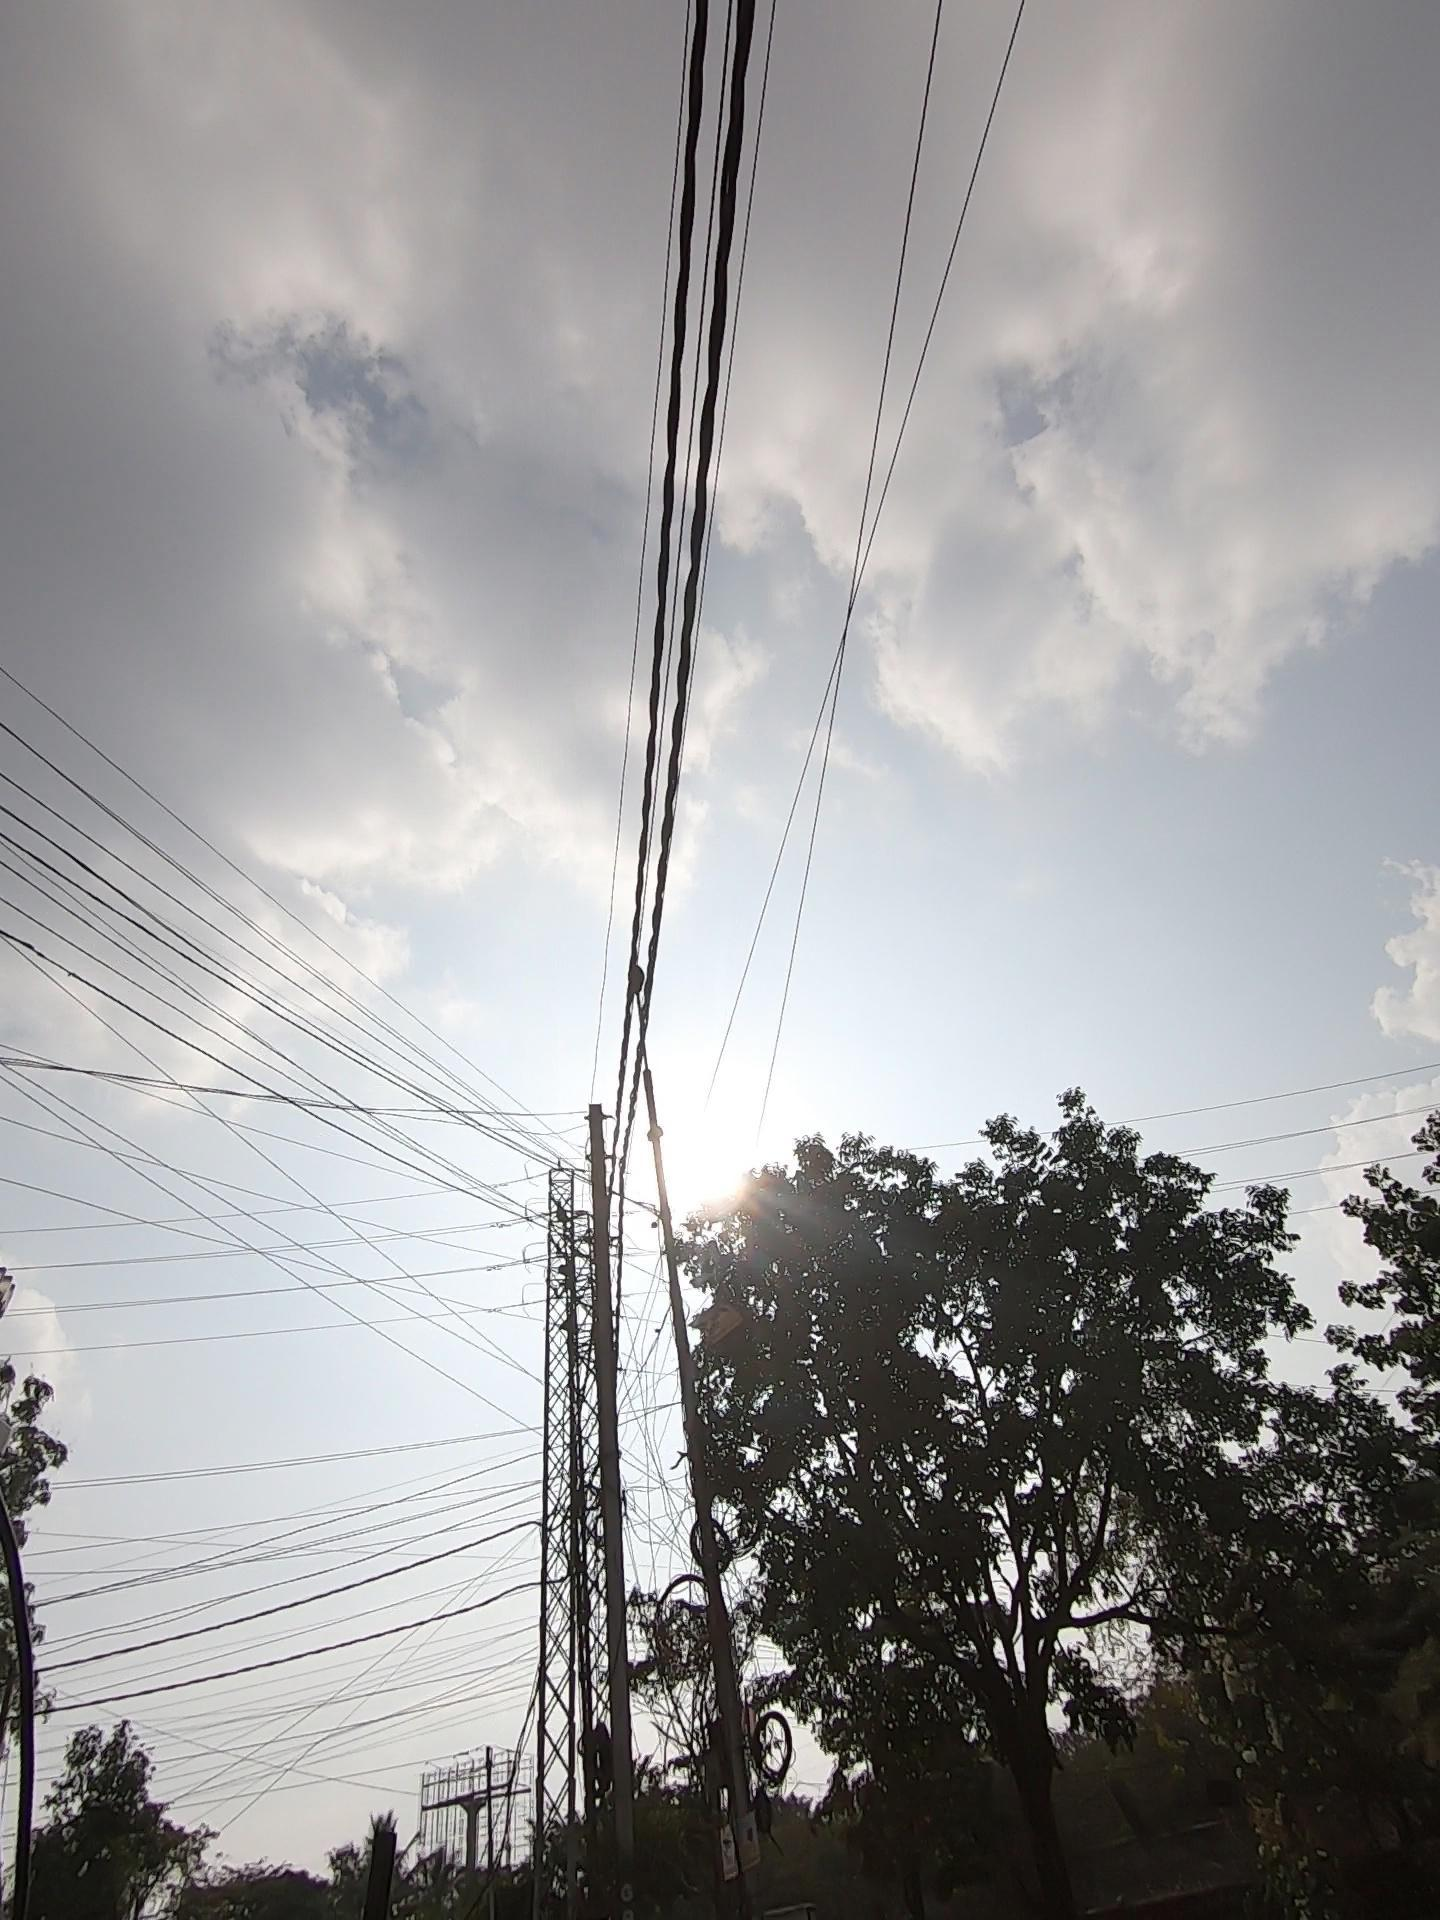off: (460, 851, 864, 1471)
